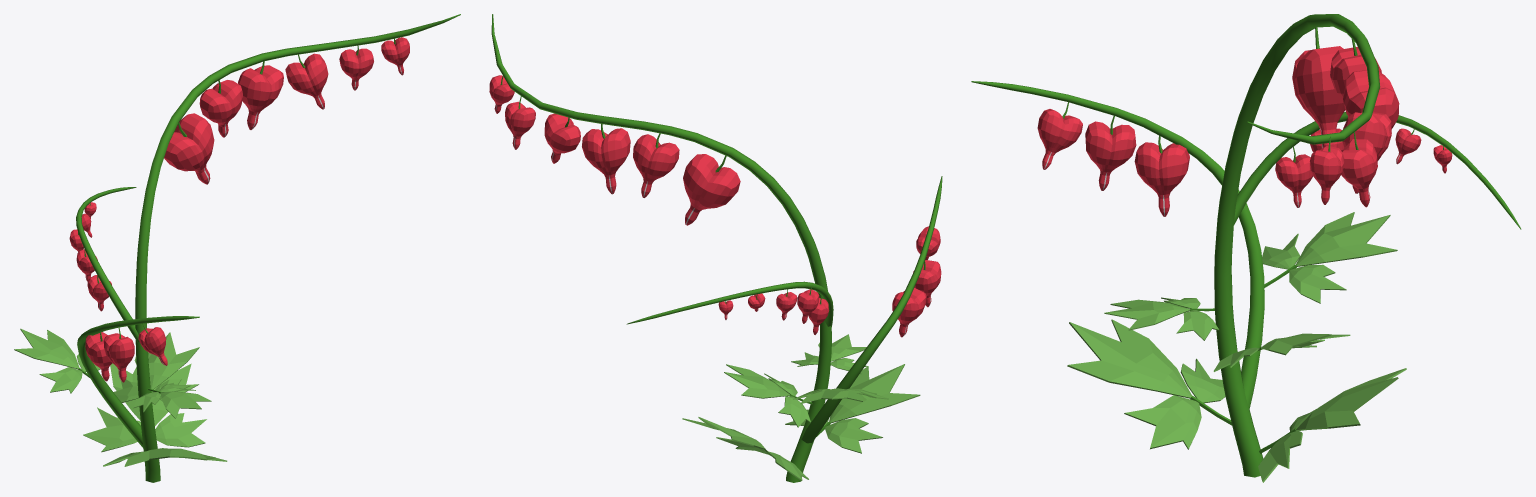
Rendered from Bleeding Heart.fbx.
3 views of the same model, side by side, from view 1: azimuth 30°, elevation 25°; view 2: azimuth 150°, elevation 25°; view 3: azimuth 270°, elevation 25° (orthographic). The views are drawn at different scales.
Parts seen in each view (by area): view 1: Stem, Cube.014, Cube, Cube.017, Cube.002, Cube.016, Cube.001, Cube.003, Cube.018, Cube.015, Cube.007, Cube.004 (+3 smaller); view 2: Stem, Cube.015, Cube, Cube.002, Cube.016, Cube.001, Cube.003, Cube.014, Cube.018, Cube.004, Cube.008, Cube.017 (+3 smaller); view 3: Stem, Cube.015, Cube.017, Cube.014, Cube, Cube.018, Cube.008, Cube.007, Cube.002, Cube.004, Cube.006, Cube.016 (+4 smaller).
Part boxes in pixels (x1,y1,x2,y2): Stem: (76,14,460,482); Cube.014: (83,363,206,452); Cube: (164,113,214,184); Cube.017: (14,328,100,393); Cube.002: (238,61,283,129); Cube.016: (113,332,199,402); Cube.001: (199,80,242,137); Cube.003: (285,53,328,109); Cube.018: (133,383,211,418); Cube.015: (103,448,227,466); Cube.007: (103,327,134,382); Cube.004: (339,45,373,90); Stem: (491,14,942,482); Cube.015: (785,364,920,453); Cube: (683,154,740,225); Cube.002: (582,124,630,194); Cube.016: (724,364,812,427); Cube.001: (633,133,679,197); Cube.003: (544,113,580,163); Cube.014: (682,417,808,481); Cube.018: (791,334,867,373); Cube.004: (505,96,535,149); Cube.008: (892,288,926,337); Cube.017: (793,388,888,403); Stem: (971,14,1521,477); Cube.015: (1067,319,1231,449); Cube.017: (1262,212,1397,303); Cube.014: (1258,368,1406,482); Cube: (1292,27,1345,148); Cube.018: (1104,297,1219,340); Cube.008: (1134,135,1189,216); Cube.007: (1085,116,1136,190); Cube.002: (1343,70,1399,161); Cube.004: (1341,131,1377,207); Cube.006: (1037,102,1082,169); Cube.016: (1213,333,1350,371).
Size of the model in its own units: 475 by 435 by 383.
